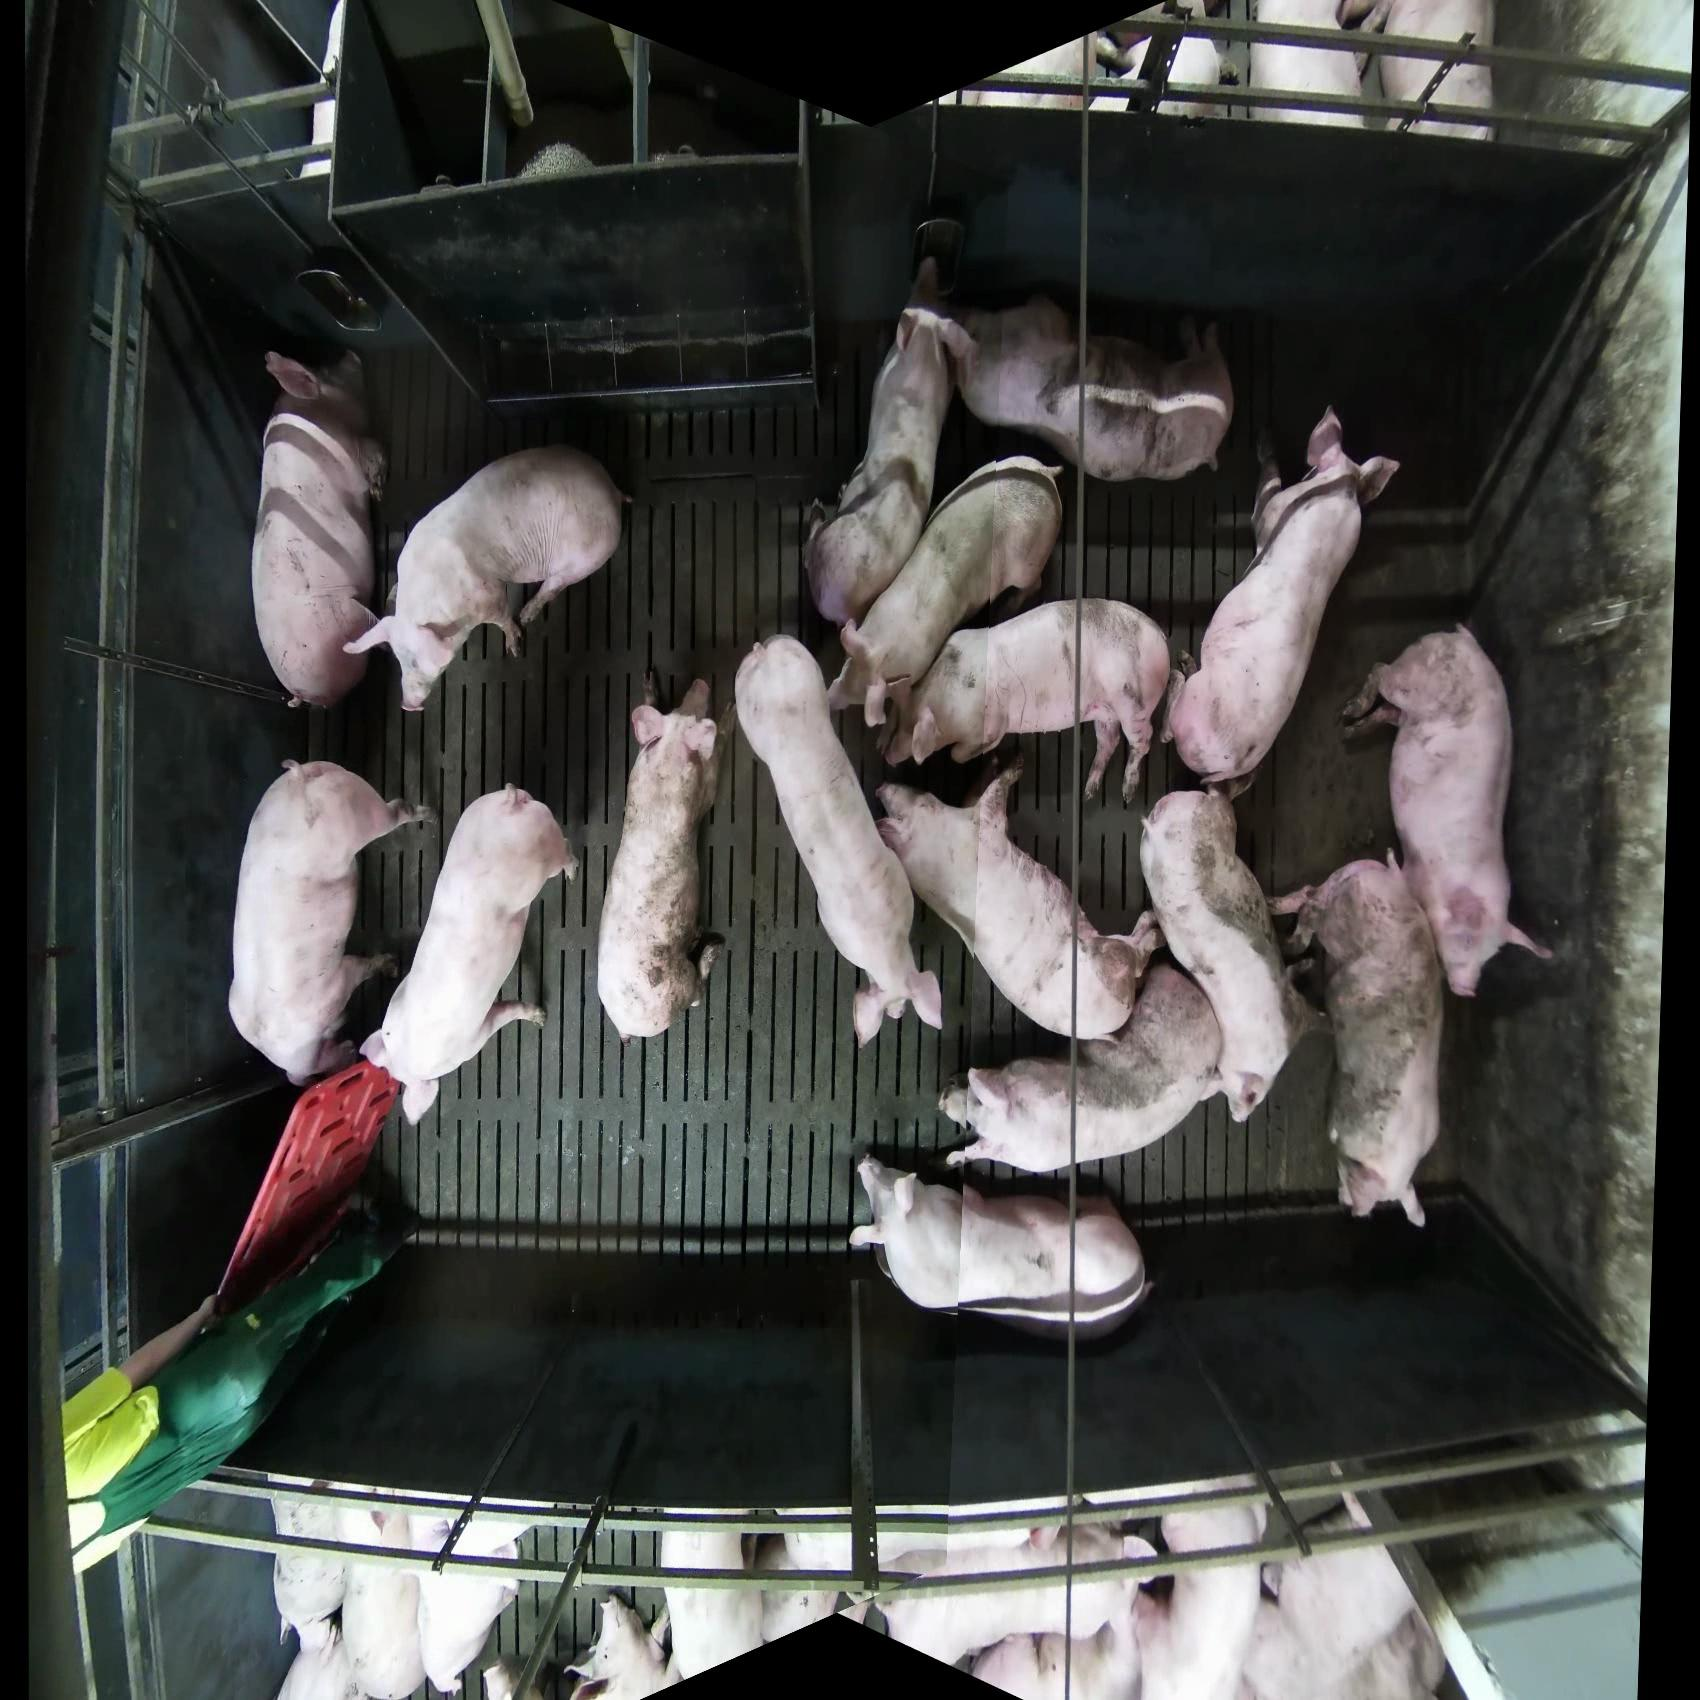pig: (1161, 404, 1401, 802), (733, 634, 945, 1049), (873, 758, 1166, 1044), (1338, 621, 1555, 1001), (344, 443, 634, 713), (360, 784, 579, 1126), (227, 758, 432, 1087), (825, 454, 1066, 732), (1271, 850, 1447, 1229), (938, 958, 1230, 1176), (879, 596, 1174, 809), (802, 256, 966, 632), (1138, 787, 1314, 1126), (849, 1157, 1152, 1341), (943, 292, 1236, 483), (268, 1490, 528, 1699), (210, 1056, 399, 1322), (250, 345, 388, 712), (595, 676, 726, 1042), (865, 1520, 1158, 1672), (1241, 1538, 1448, 1700), (658, 1524, 838, 1686), (1132, 1498, 1270, 1699), (1363, 1, 1498, 142), (1245, 1, 1376, 129), (1102, 1, 1230, 123), (955, 29, 1136, 114), (562, 1592, 678, 1700)
worker: (60, 1214, 409, 1576)
